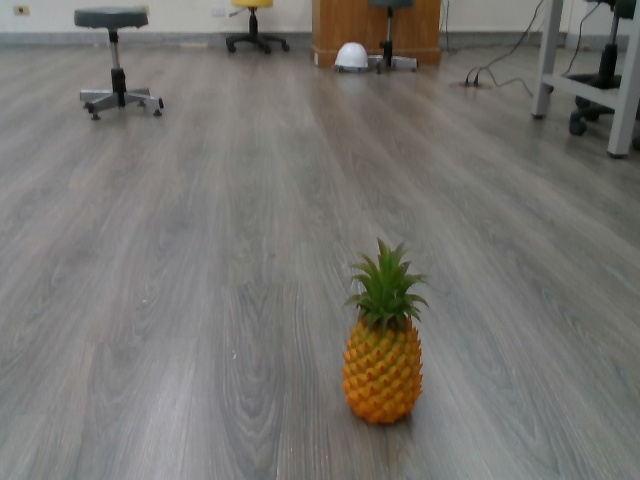pineapple: (336, 235, 435, 432)
